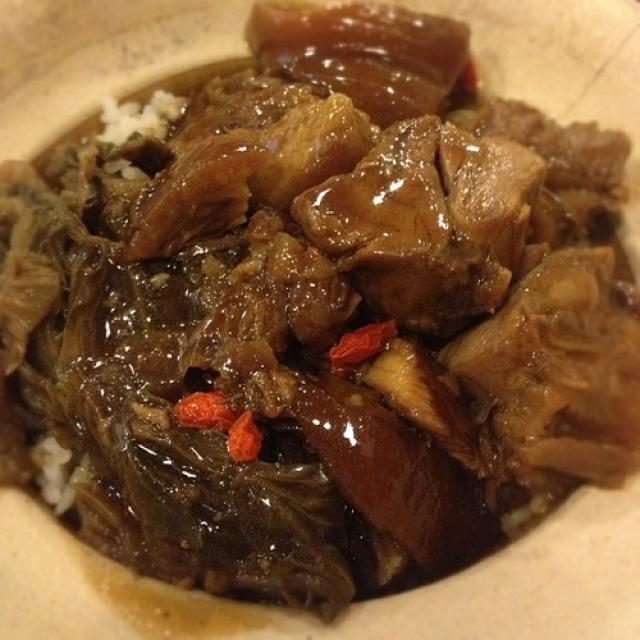猪肉菜式: (26, 28, 617, 594)
